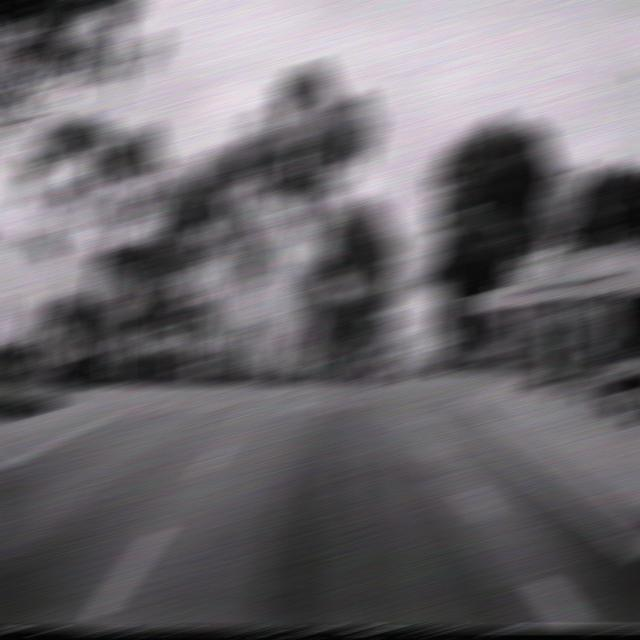stop_sign: (538, 174, 580, 232), (95, 266, 130, 312)
